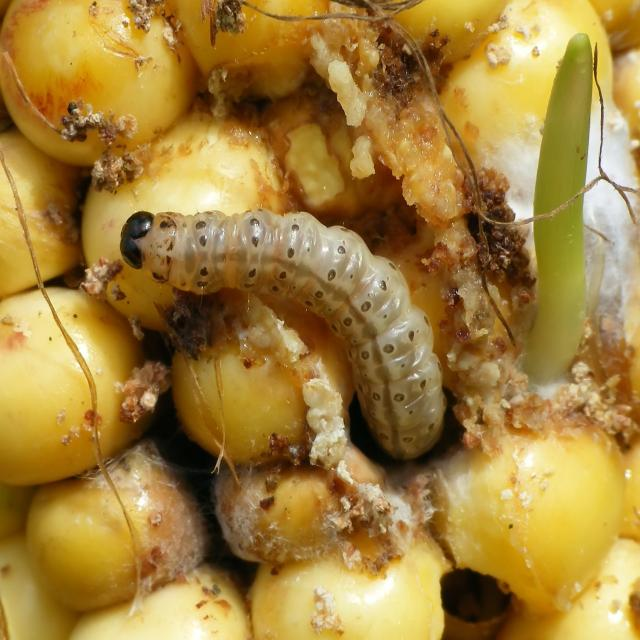cornborer-Larva-: (116, 194, 464, 477)
